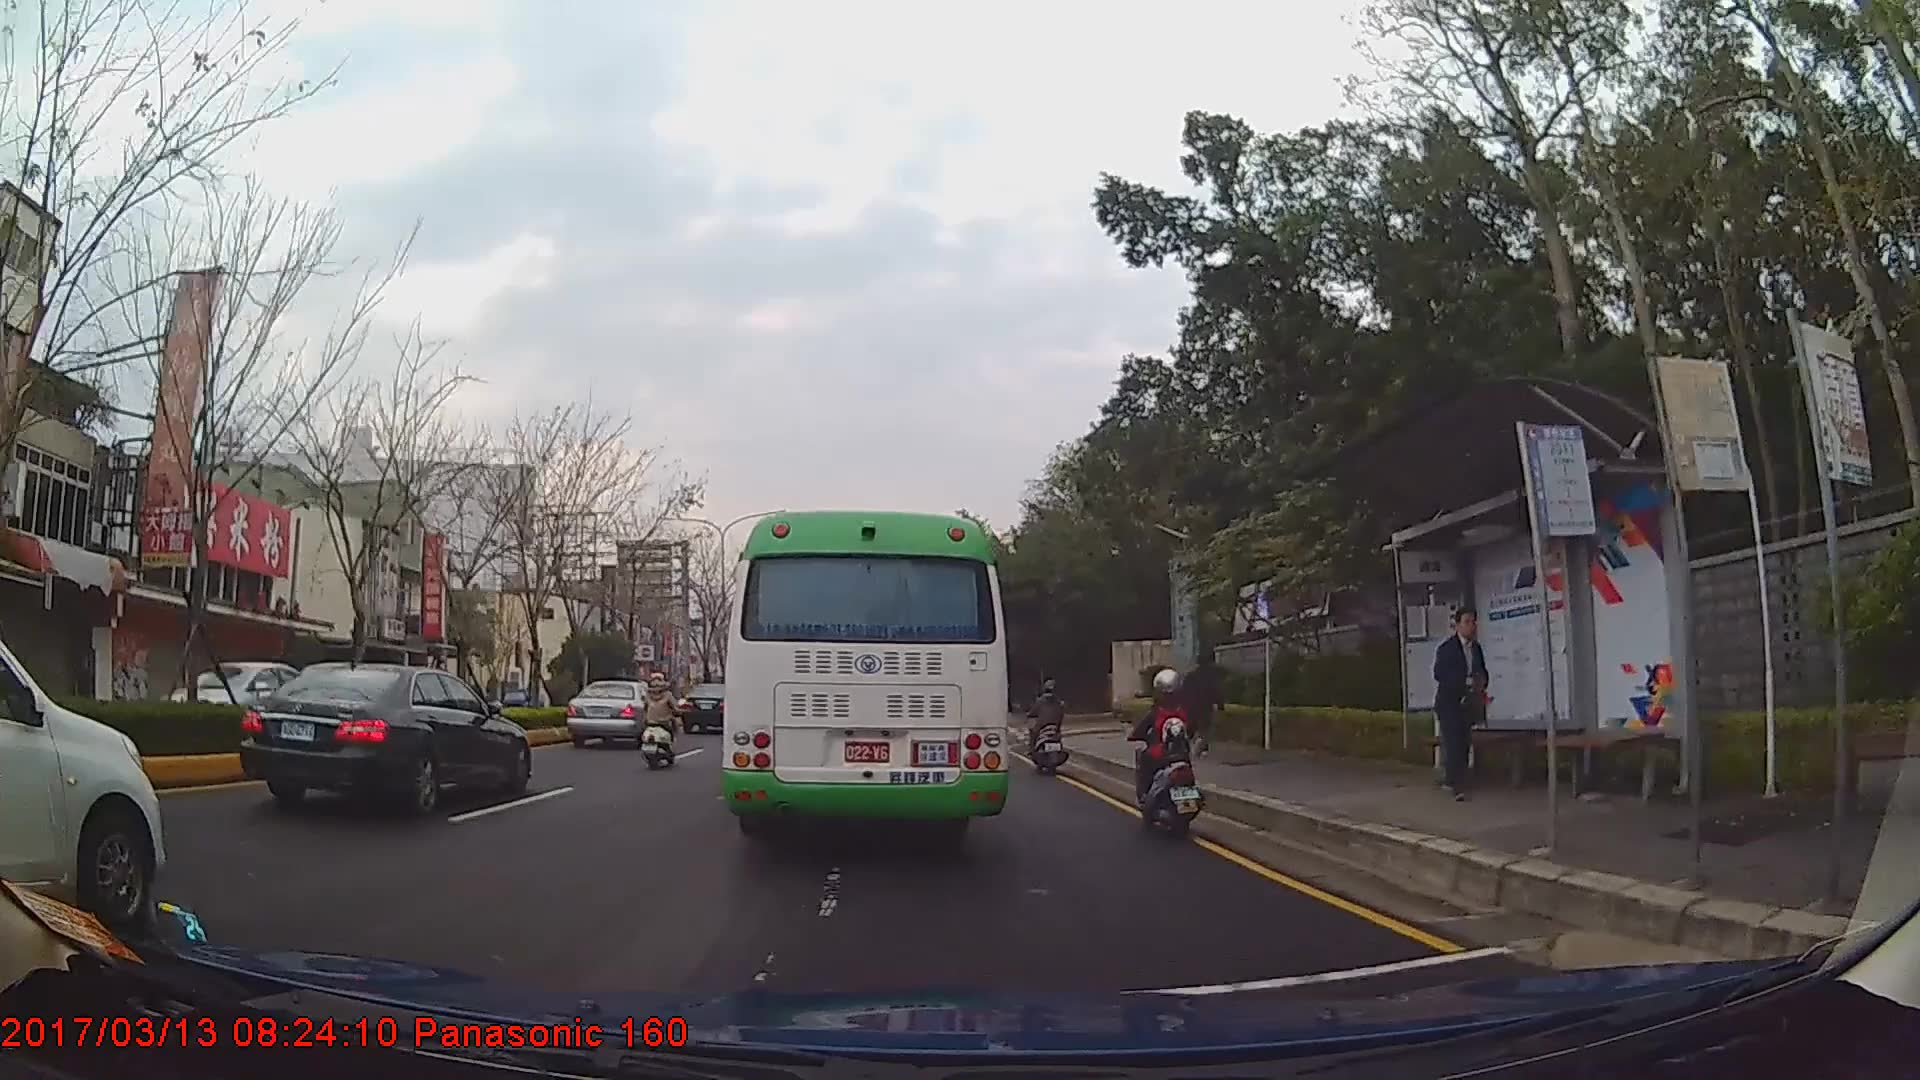pedestrian: (1434, 599, 1502, 798), (1170, 645, 1223, 756)
rider: (1126, 664, 1208, 834), (1026, 671, 1071, 773), (644, 670, 681, 763)
vehicle: (721, 507, 1005, 848), (0, 613, 166, 939), (237, 657, 530, 809), (146, 647, 322, 741), (567, 678, 663, 748), (678, 682, 745, 736)
